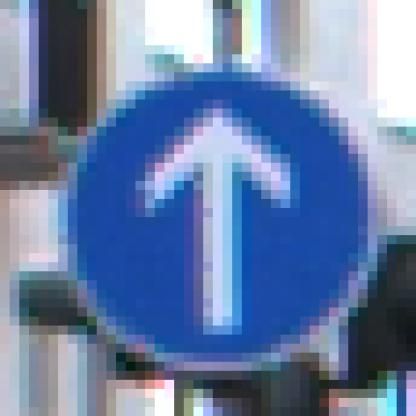AheadOnly: (49, 55, 359, 363)
